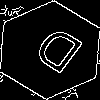D: (25, 25, 86, 83)
